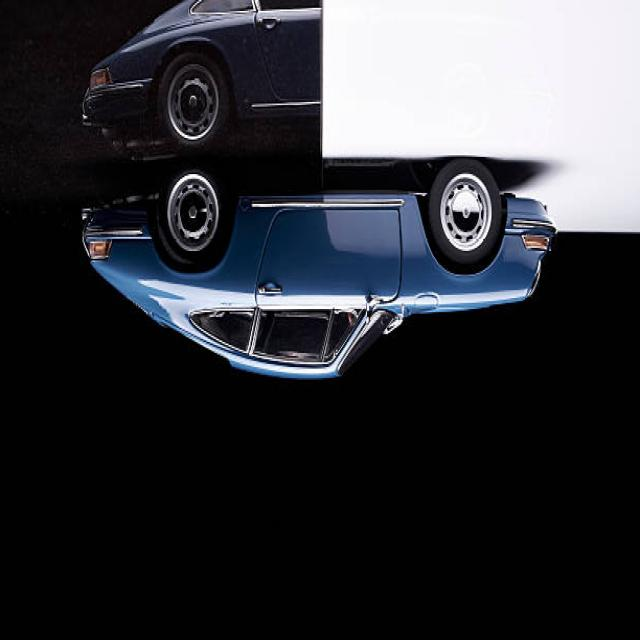Car: (83, 158, 556, 378)
